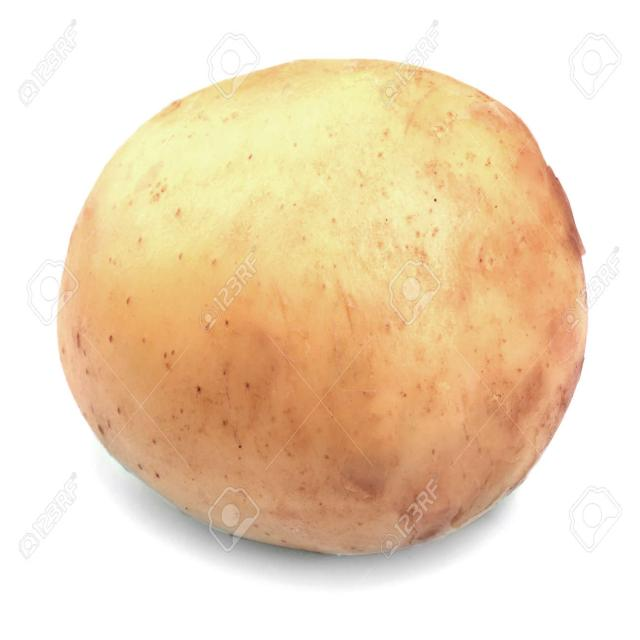potato: (54, 58, 589, 559)
